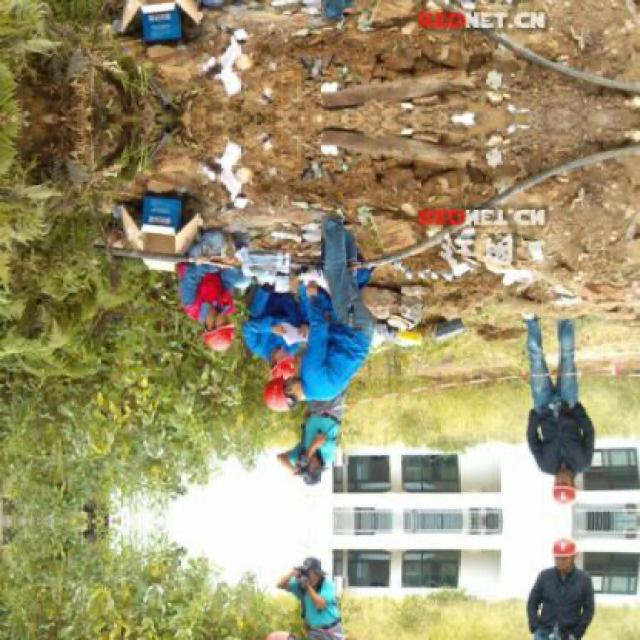con casco: (235, 366, 308, 429), (539, 468, 604, 508), (185, 325, 250, 356)
